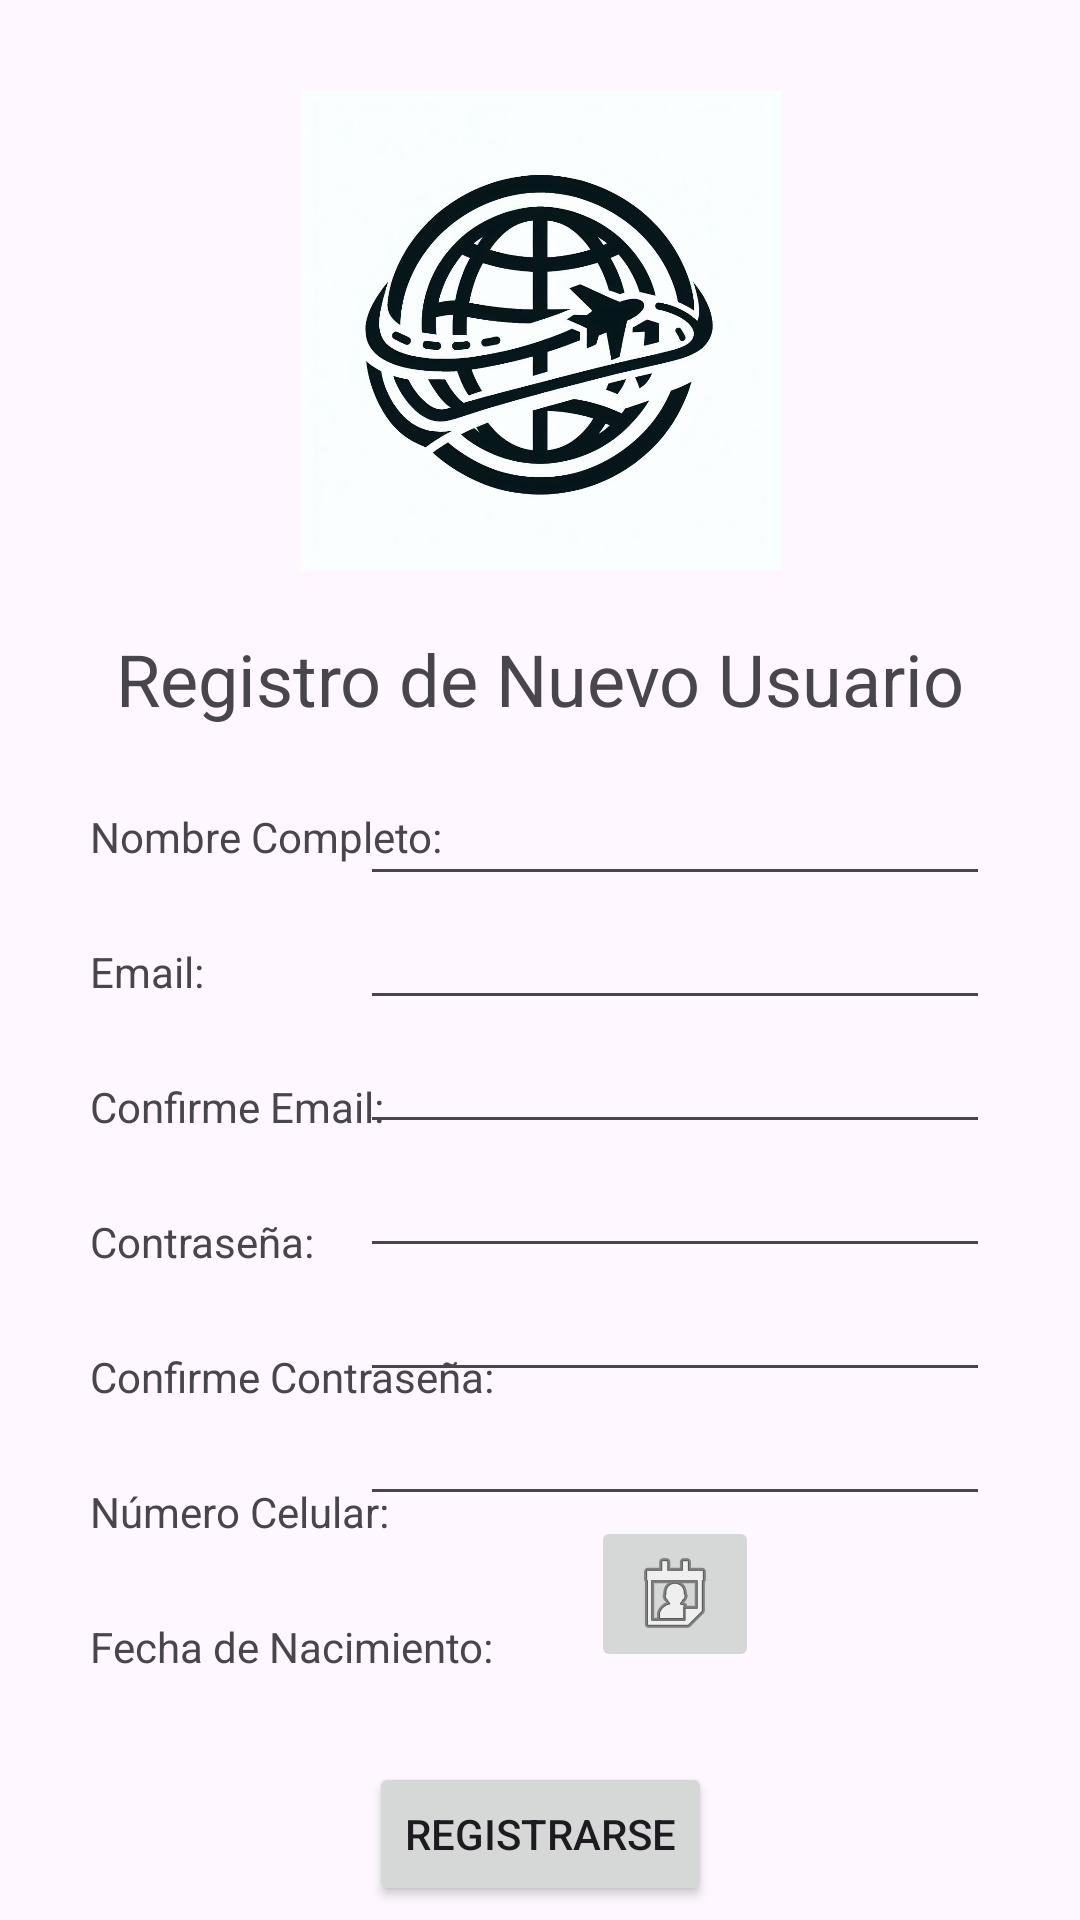

Locate icon controls on the screen. Image size 1080*1920, boxes as (x1=x1, y1=y1, x2=x2, y2=y2).
calendar: (x1=603, y1=1534, x2=747, y2=1654)
